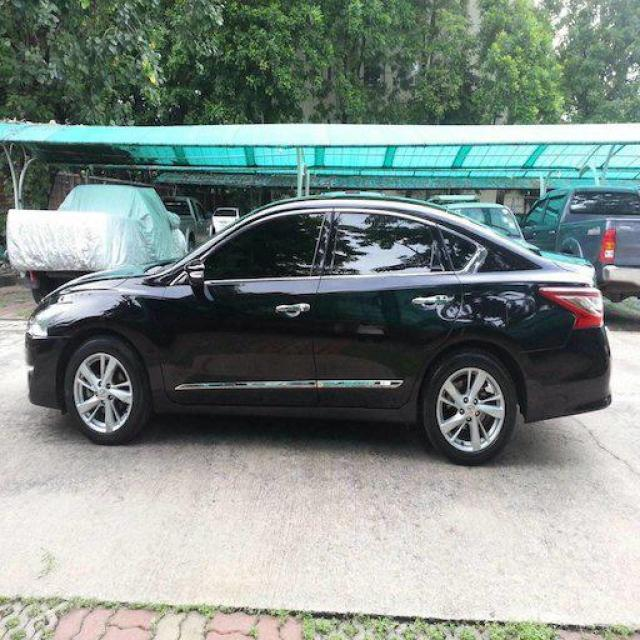back_left_door: (313, 207, 463, 409)
back_left_light: (540, 287, 606, 327)
front_left_door: (161, 207, 335, 406)
left_mirror: (184, 258, 206, 290)
wheel: (66, 337, 518, 468)
